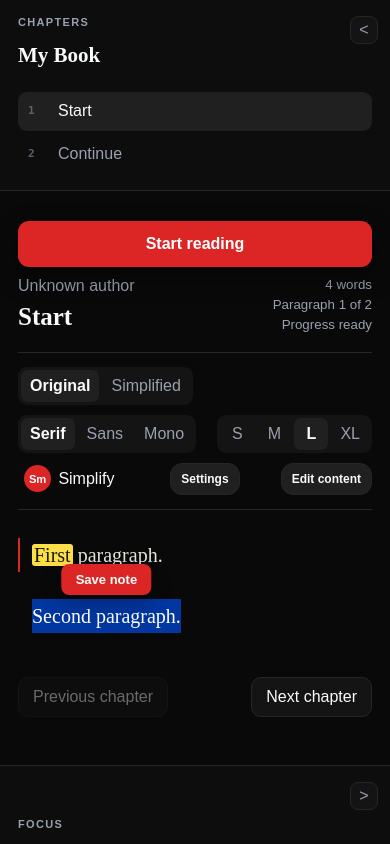
Test: reader desktop shell › offers to start focus from a selection or from where reading left off
The image size is (390, 844).
Step 1. Click the button "Start reading" → (195, 244), box [18,221,372,267]
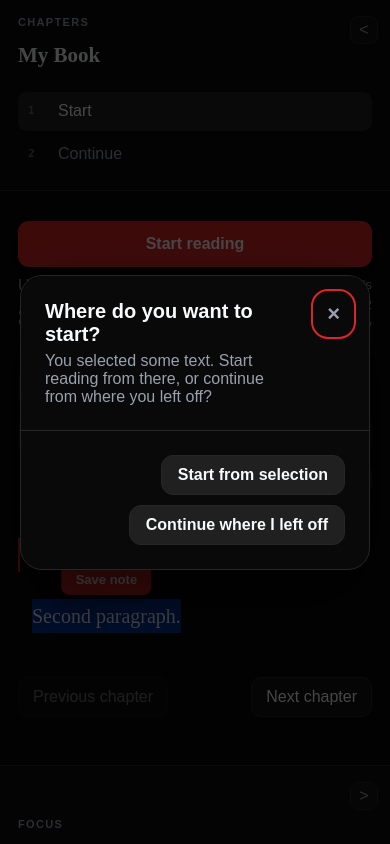
Check: the dialog is shown, box [20,274,370,570]
Check: the button "Start from selection" is shown, box [161,454,345,494]
Check: the button "Continue where I left off" is shown, box [129,504,345,544]
